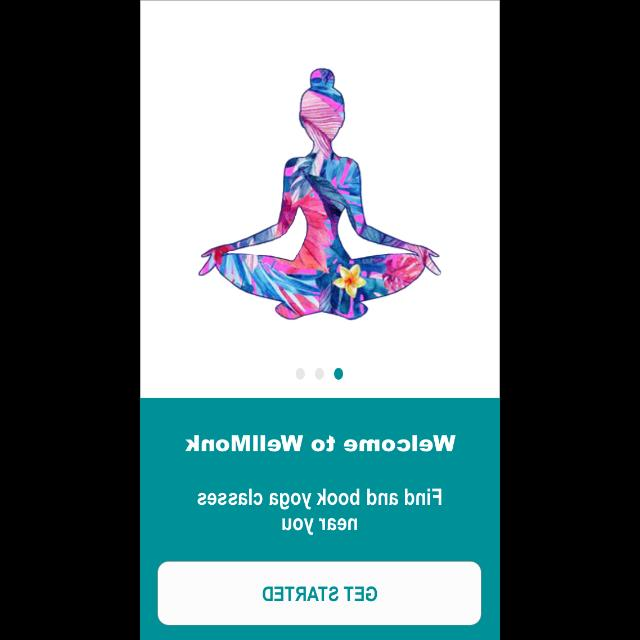image: (198, 69, 442, 321)
pageindicator: (296, 368, 342, 380)
text: (196, 488, 442, 536), (185, 434, 455, 452)
textbutton: (158, 561, 480, 625)
